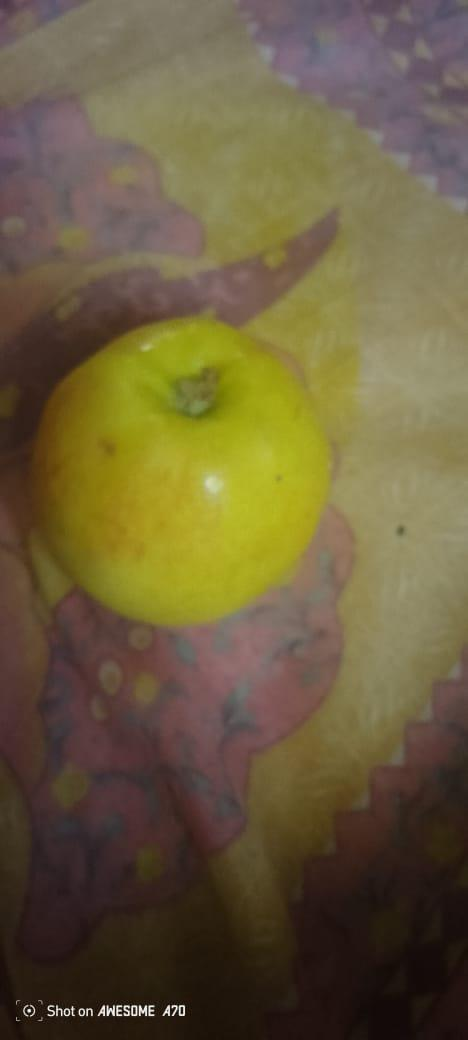non-mango: (43, 318, 331, 625)
